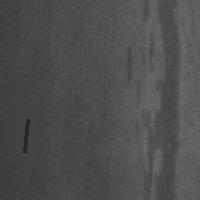inclusion: (135, 1, 181, 198), (22, 117, 29, 154)
